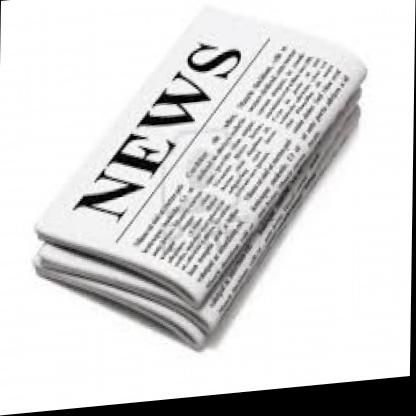Paper: (28, 0, 382, 365)
